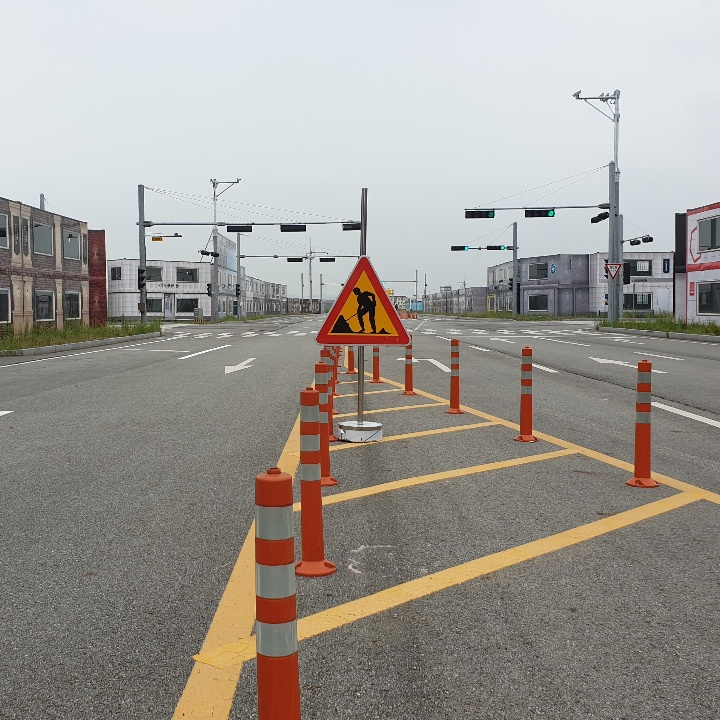const: (327, 279, 397, 336)
